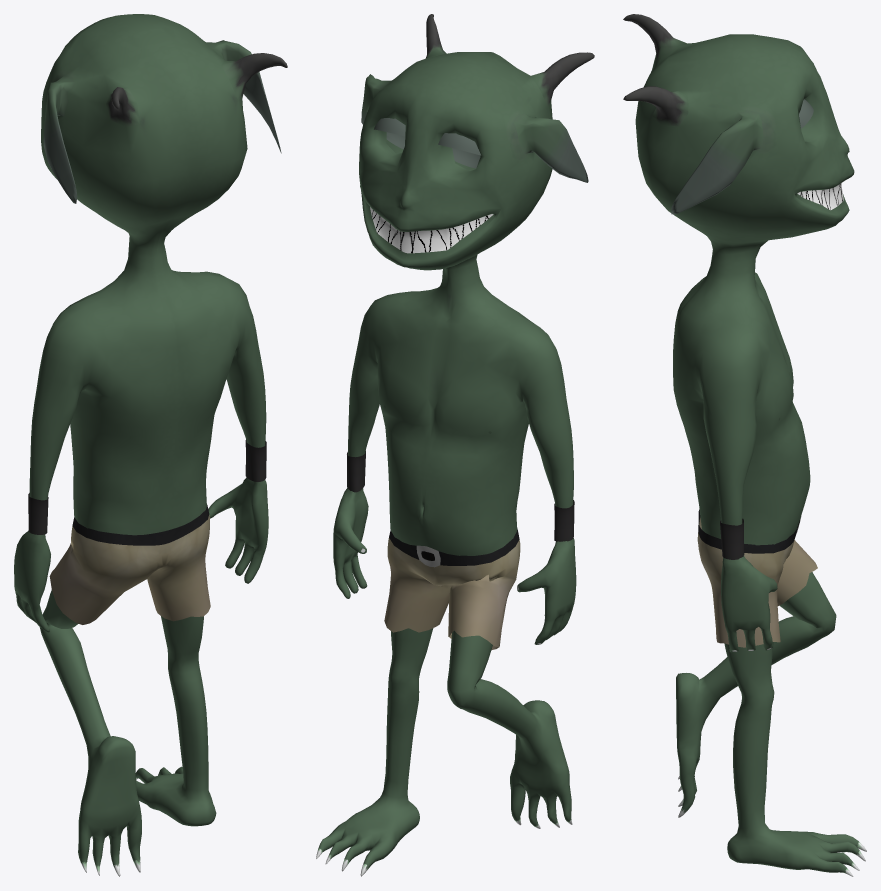
File: lwjglcharactergoblin10_000010.obj
The picture shows the model from 3 angles, left to right: view 1: azimuth 30°, elevation 25°; view 2: azimuth 150°, elevation 25°; view 3: azimuth 270°, elevation 25°; orthographic projection. The views are drawn at different scales.
Parts seen in each view (by area): view 1: Cube.002; view 2: Cube.002; view 3: Cube.002.
Part boxes in pixels (x1,y1,x2,y2): Cube.002: [14, 14, 287, 876]; Cube.002: [316, 14, 594, 876]; Cube.002: [623, 14, 866, 876].
Size of the model in its own units: 1.18 by 3.82 by 1.06.
